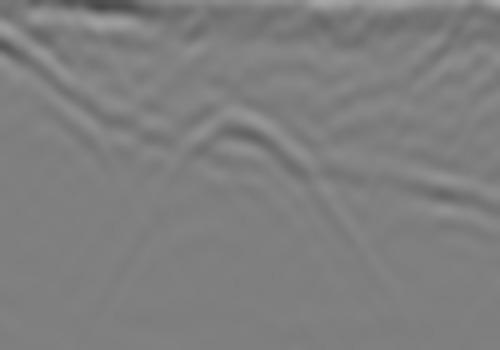hyperbola: (165, 100, 337, 224)
